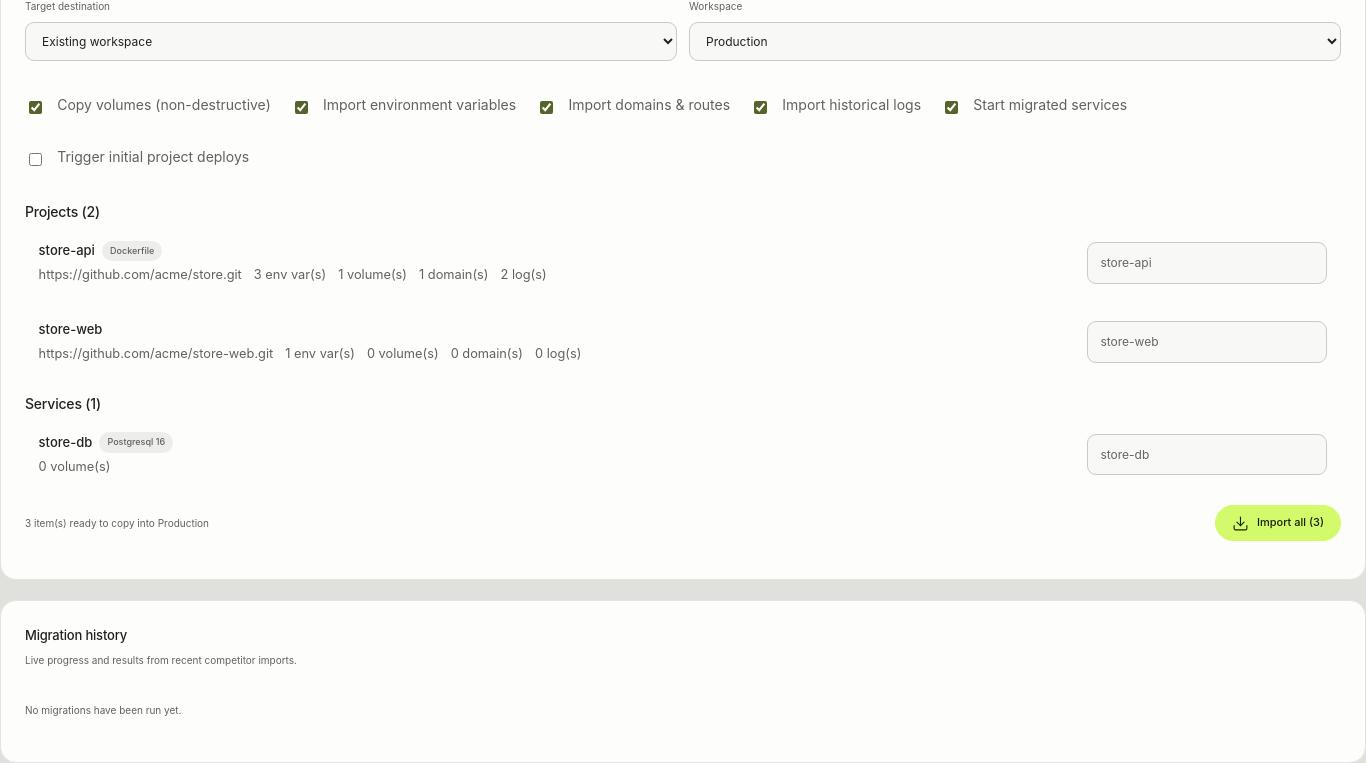
Scenario: MigrationsView › detects platforms and supports import-all into an existing workspace
(page scrolled)
Expected: the text "store-api" is shown, x1=39 y1=240 x2=95 y2=261
Expected: the text "store-db" is shown, x1=39 y1=432 x2=92 y2=453
Step 1. Click the button "Import all (3)" → {"x": 1278, "y": 523}, box x1=1215 y1=505 x2=1341 y2=541
(page scrolled)
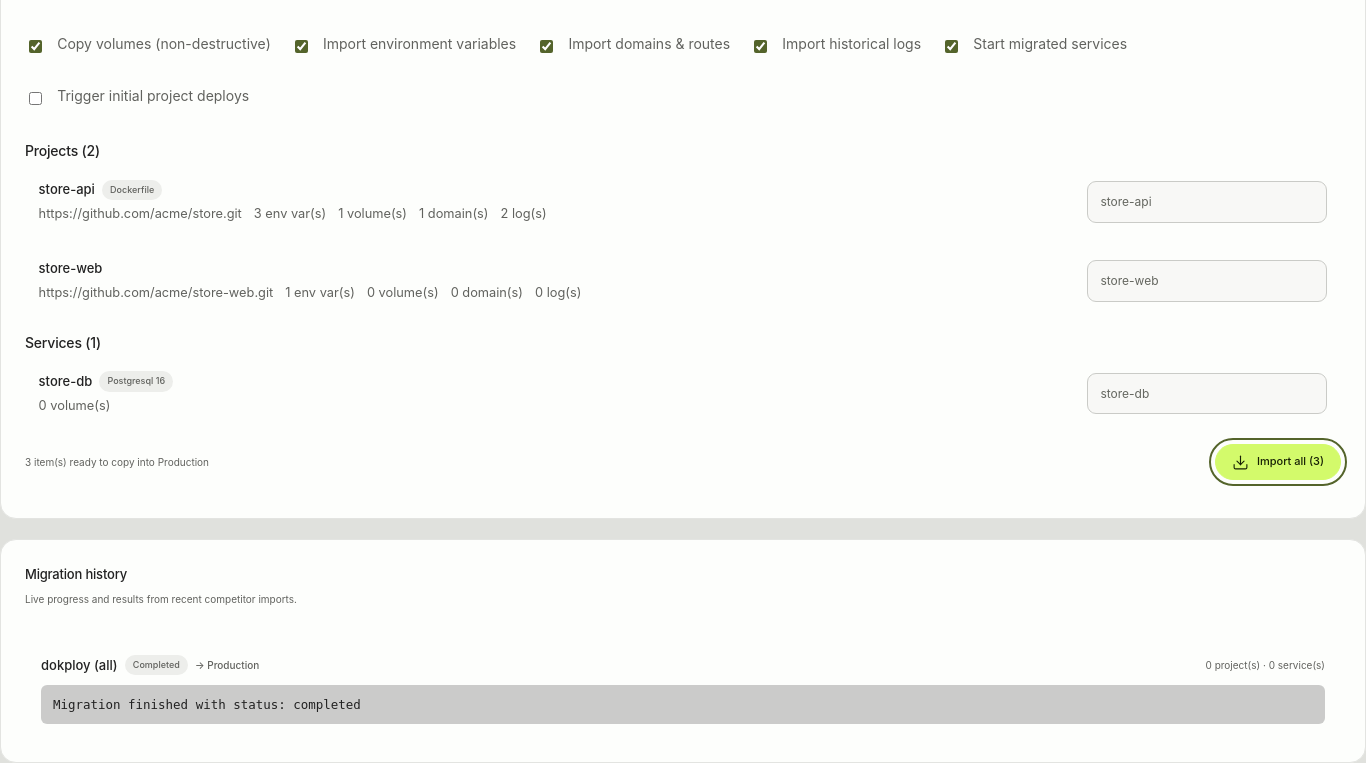
Expected: the text "Migration finished with status: completed" is shown, x1=41 y1=685 x2=1325 y2=724
